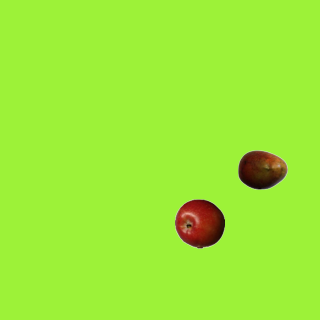Apple Braeburn: (174, 198, 224, 248)
Mango Red: (237, 144, 287, 194)
